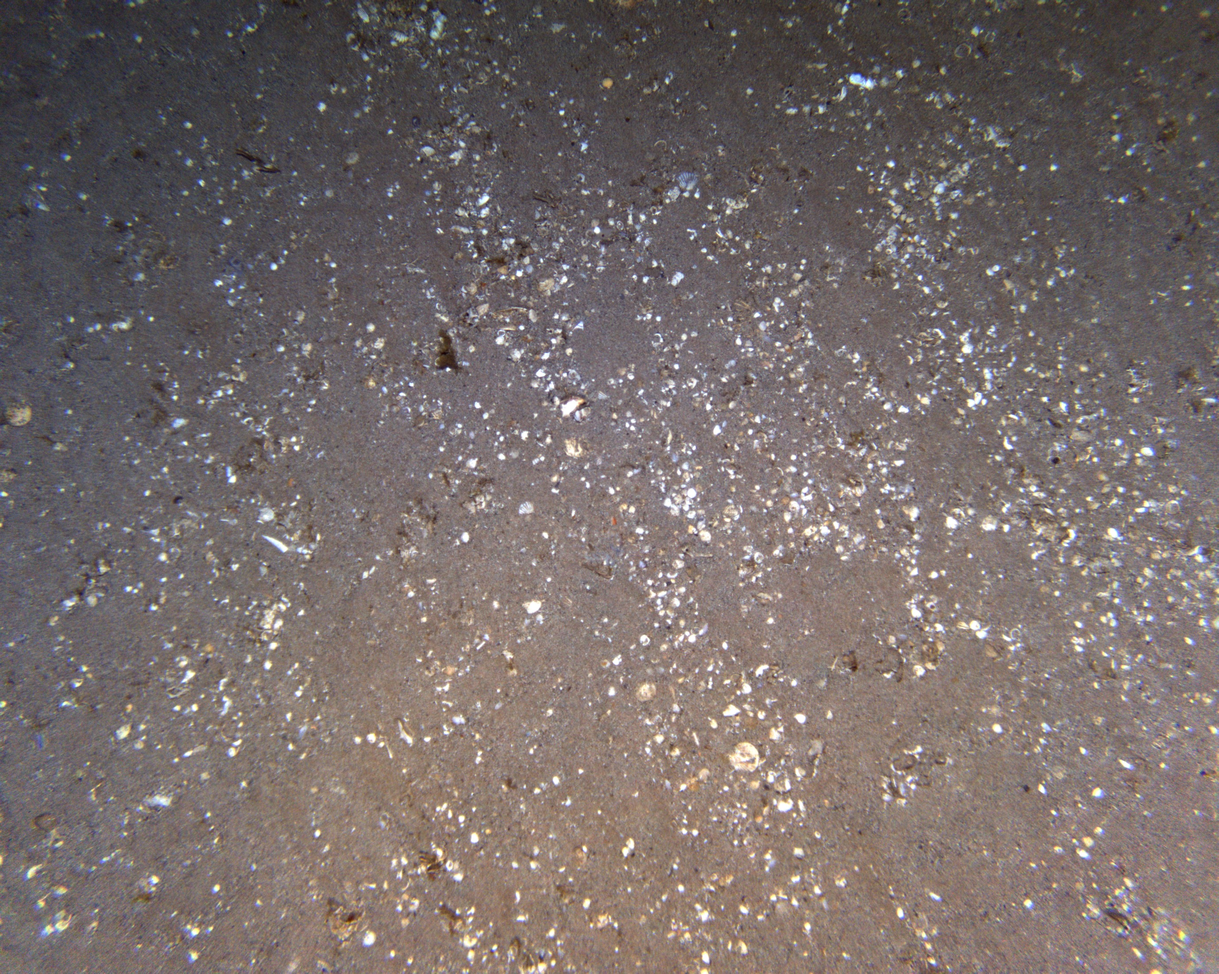Brachionichthyidae: (232, 143, 283, 174)
